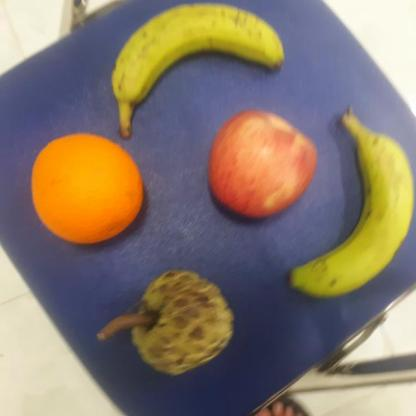annona: (128, 268, 239, 379)
apple: (204, 105, 324, 227)
banana: (290, 107, 416, 299), (107, 0, 287, 103)
orange: (30, 131, 150, 253)
